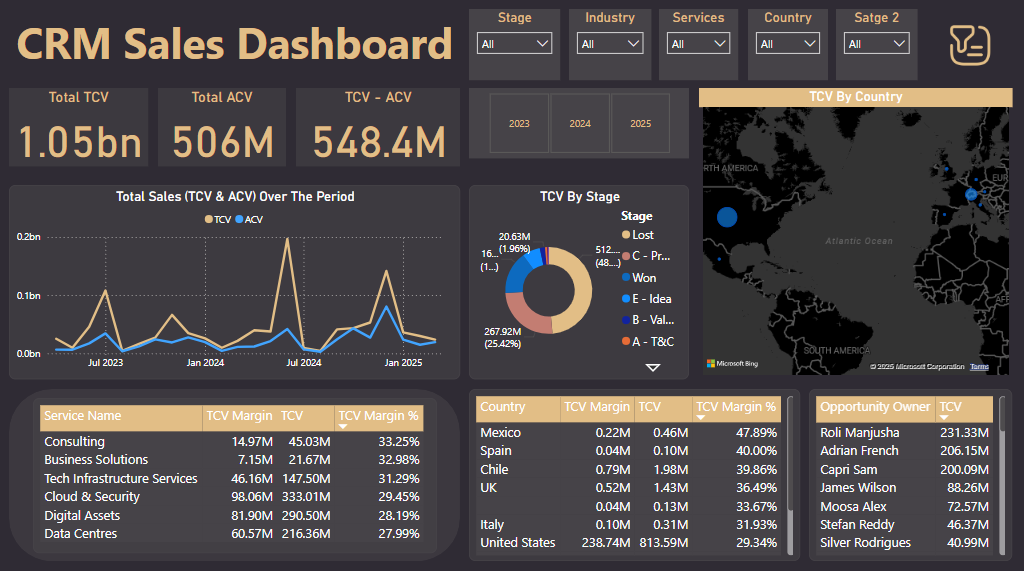

The dashboard page shown, as its layout file describes it:
{"tool":"powerbi","page":{"name":"Page 1","canvas":[1280,720],"ordinal":0},"visuals":[{"type":"shape","box":[11.4,486.6,563.7,215.5],"z":0},{"type":"lineChart","title":"Total Sales (TCV & ACV) Over The  Period","fields":{"Y":["Append1.TCV","Append1.ACV"],"Category":["Append1.Close Date.Variation.Date Hierarchy.Year","Append1.Close Date.Variation.Date Hierarchy.Quarter","Append1.Close Date.Variation.Date Hierarchy.Month"]},"box":[11.4,231.2,563.7,242.6],"z":1000},{"type":"slicer","title":"Country","fields":{"Values":["Append1.Country"]},"box":[935.3,11.4,100.1,88.7],"z":2000},{"type":"slicer","title":"Industry","fields":{"Values":["Append1.Industry Filled"]},"box":[710.8,11.4,103,88.7],"z":3000},{"type":"slicer","title":"Services","fields":{"Values":["Append1.Service Name"]},"box":[823.8,11.4,98.7,88.7],"z":4000},{"type":"map","title":"TCV By Country","fields":{"Category":["Append1.Country"],"Size":["Append1.TCV"]},"box":[873.3,109.9,392.4,363.9],"z":5000},{"type":"donutChart","title":"TCV By Stage","fields":{"Category":["Append1.Stage"],"Y":["Append1.TCV"]},"box":[586.5,231.2,275.4,242.6],"z":6000},{"type":"pivotTable","fields":{"Rows":["Append1.Service Name"],"Values":["Append1.TCV Margin","Append1.TCV","Append1.TCV Margin Percentage"]},"box":[41.4,498,505.2,194.1],"z":7000},{"type":"card","title":"Total TCV","fields":{"Values":["Append1.TCV"]},"box":[11.4,109.9,174.1,98.5],"z":8000},{"type":"card","title":"Total ACV","fields":{"Values":["Append1.ACV"]},"box":[196.9,109.9,159.8,98.5],"z":9000},{"type":"slicer","title":"Stage","fields":{"Values":["Append1.Stage"]},"box":[586.4,11.4,114.4,88.7],"z":10000},{"type":"card","title":"TCV - ACV","fields":{"Values":["Append1.TCV - ACV"]},"box":[369.6,109.9,205.5,98.5],"z":11000},{"type":"slicer","fields":{"Values":["Append1.YEAR"]},"box":[586.5,109.9,275.4,88.5],"z":12000},{"type":"pivotTable","fields":{"Rows":["Append1.Country"],"Values":["Append1.TCV Margin","Append1.TCV","Append1.TCV Margin %"]},"box":[586.5,486.6,413.8,215.5],"z":13000},{"type":"textbox","box":[10.9,10.9,564.2,88.8],"z":15000},{"type":"image","box":[1158.4,24.3,108.7,65.8],"z":16000},{"type":"pivotTable","fields":{"Rows":["Append1.Opportunity Owner"],"Values":["Append1.TCV"]},"box":[1011.7,486.6,254,215.5],"z":17000},{"type":"slicer","title":"Satge 2","fields":{"Values":["Append1.Stage 2"]},"box":[1045.5,11.4,101.5,88.7],"z":18000}]}

Visuals, with their boxes in screenshot pixels (x1, y1, x2, y2), scaled from the page's 1280x720 canvas onto the 1024x571 screenshot:
shape: box=[9, 386, 460, 557]
"Total Sales (TCV & ACV) Over The  Period" lineChart: box=[9, 183, 460, 376]
"Country" slicer: box=[748, 9, 828, 79]
"Industry" slicer: box=[569, 9, 651, 79]
"Services" slicer: box=[659, 9, 738, 79]
"TCV By Country" map: box=[699, 87, 1013, 376]
"TCV By Stage" donutChart: box=[469, 183, 690, 376]
pivotTable - Append1.Service Name x Append1.TCV Margin: box=[33, 395, 437, 549]
"Total TCV" card: box=[9, 87, 148, 165]
"Total ACV" card: box=[158, 87, 285, 165]
"Stage" slicer: box=[469, 9, 561, 79]
"TCV - ACV" card: box=[296, 87, 460, 165]
slicer - Append1.YEAR: box=[469, 87, 690, 157]
pivotTable - Append1.Country x Append1.TCV Margin: box=[469, 386, 800, 557]
textbox: box=[9, 9, 460, 79]
image: box=[927, 19, 1014, 71]
pivotTable - Append1.Opportunity Owner x Append1.TCV: box=[809, 386, 1013, 557]
"Satge 2" slicer: box=[836, 9, 918, 79]
